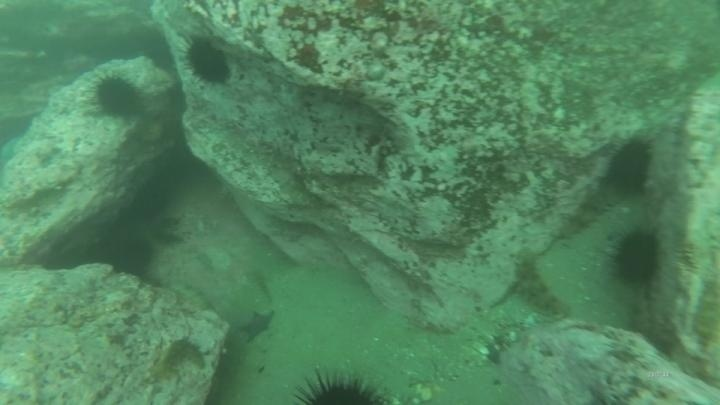echinus: (289, 365, 394, 405), (606, 226, 665, 289), (604, 135, 656, 197), (183, 34, 233, 87), (90, 72, 144, 120), (107, 235, 157, 279)
holothurian: (510, 248, 572, 321), (554, 183, 618, 240), (149, 336, 209, 379)
starfish: (237, 307, 278, 345)
